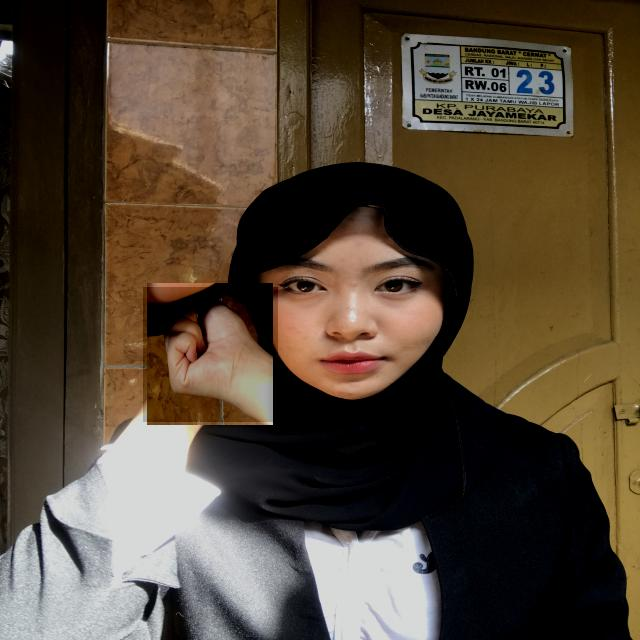ibu: (143, 287, 278, 422)
